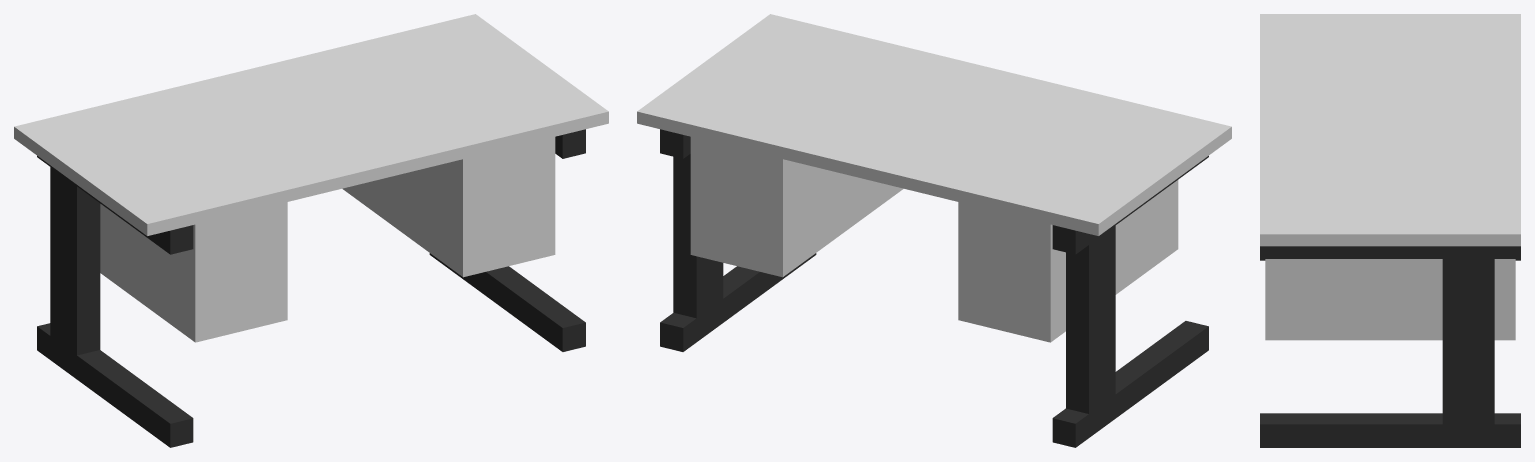
The model's file is Desk.fbx.
The picture shows the model from 3 angles, left to right: view 1: azimuth 30°, elevation 25°; view 2: azimuth 150°, elevation 25°; view 3: azimuth 270°, elevation 25°; orthographic projection. The views are drawn at different scales.
Visible parts, largest first — view 1: Desk; view 2: Desk; view 3: Desk.
Part boxes in pixels (box(x1,y1,x2,y2)): Desk: box(14, 14, 608, 447); Desk: box(637, 14, 1231, 447); Desk: box(1260, 14, 1520, 447).
Bounding box in the file's own units: 200 × 95 × 100.
